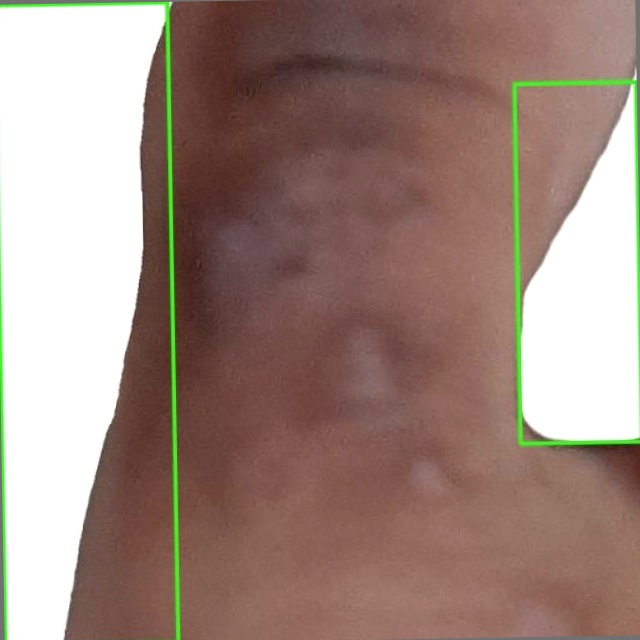Contact Dermatitis: (0, 2, 178, 639), (514, 82, 639, 443)
